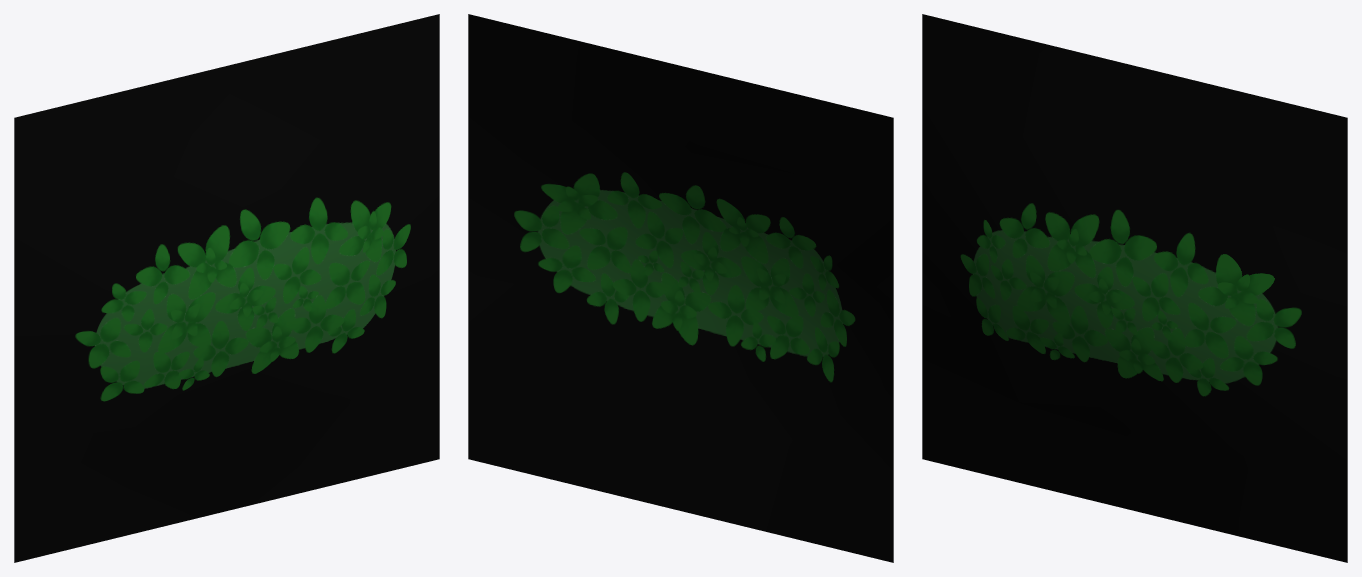
File: Moss00.fbx
3 views of the same model, side by side, from view 1: azimuth 30°, elevation 25°; view 2: azimuth 150°, elevation 25°; view 3: azimuth 330°, elevation 25° (orthographic).
Visible parts, largest first — view 1: Moss00; view 2: Moss00; view 3: Moss00.
Boxes of the visible parts, x1,y1,x2,y2 form: Moss00: (14,14,439,562); Moss00: (468,14,893,562); Moss00: (922,14,1347,562).
Size of the model in its own units: 200 by 200 by 19.91.
1 material, 1 textured.
